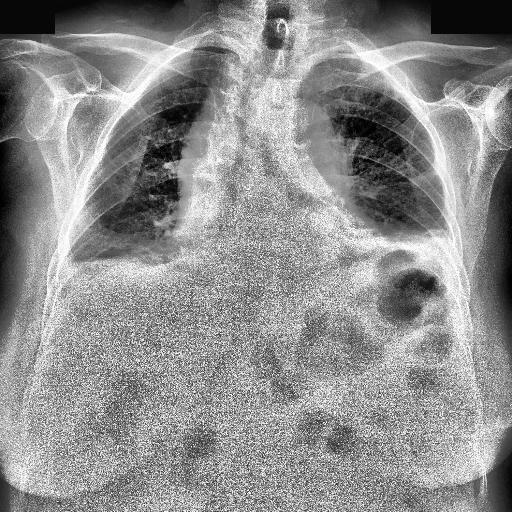0- Aortic enlargement: (176, 98, 338, 180), (252, 94, 344, 176), (273, 96, 340, 174)
10- Pleural effusion: (380, 226, 454, 272), (42, 245, 112, 285), (416, 227, 462, 271), (52, 258, 82, 292)
11- Pleural thickening: (365, 208, 460, 264), (42, 245, 112, 285), (416, 227, 462, 271), (52, 258, 82, 292)
13- Pulmonary fibrosis: (392, 228, 446, 252), (128, 242, 166, 258)
3- Cardiomegaly: (166, 215, 388, 274)
7- Lung Opacity: (380, 226, 454, 272), (392, 228, 446, 252)
9- Other lesion: (229, 62, 273, 172)
